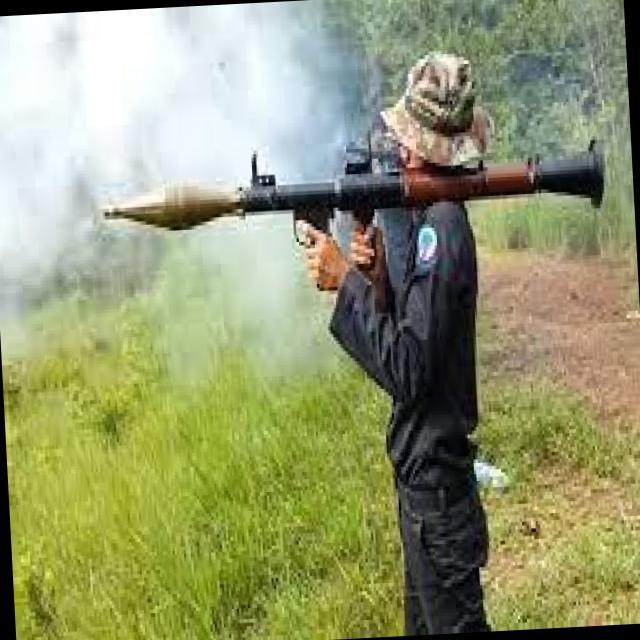rocket: (97, 138, 606, 232)
